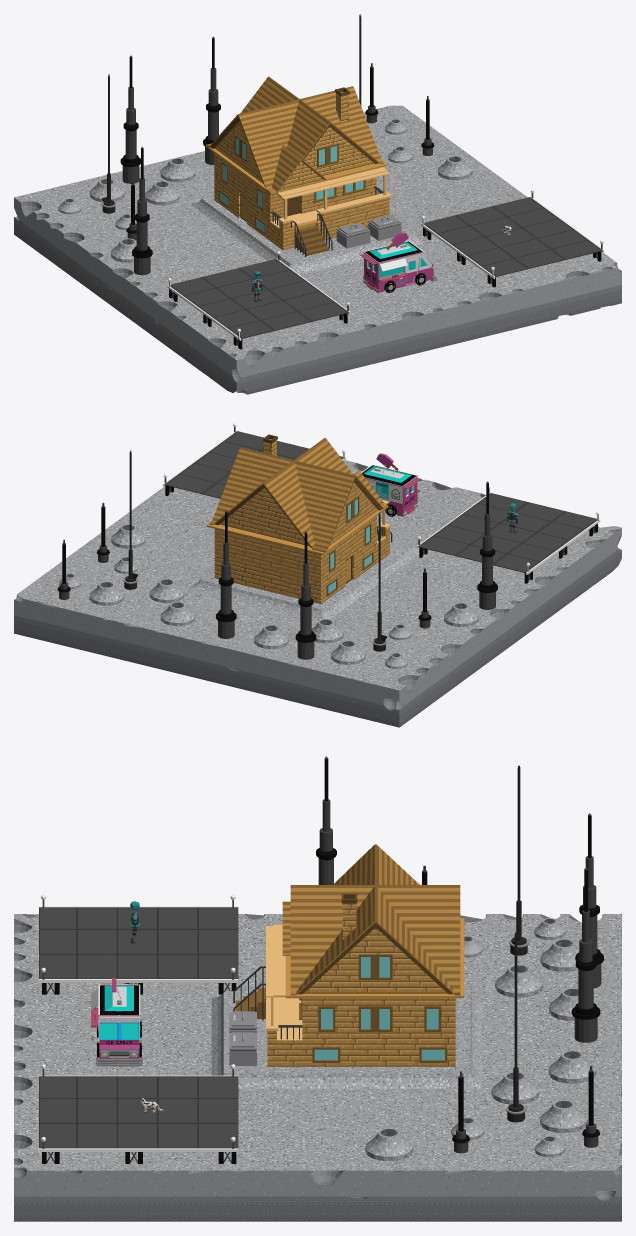
The picture shows the model from 3 angles, top to bottom: view 1: azimuth 30°, elevation 25°; view 2: azimuth 150°, elevation 25°; view 3: azimuth 270°, elevation 25°; orthographic projection. The views are drawn at different scales.
Visible parts, largest first — view 1: Cube.027, Cube.508, Cube.026, Cube.025, Cube.028, VEHICLES_ICE_CREAM_TRUCK, Cylinder.020, Cylinder.021, Cylinder.017, Cube.029, Cube.030, Cylinder.027 (+3 smaller); view 2: Cube.027, Cube.508, Cube.025, Cube.028, Cube.026, VEHICLES_ICE_CREAM_TRUCK, Cylinder.020, Cylinder.021, Cylinder.017, Cylinder.031, Cylinder.028, Cylinder.029 (+7 smaller); view 3: Cube.027, Cube.508, Cube.026, Cube.025, Cube.028, VEHICLES_ICE_CREAM_TRUCK, Cylinder.017, Cylinder.020, Cylinder.021, Cylinder.033, Cylinder.031, Cylinder.029 (+9 smaller).
Part boxes in pixels (x1,y1,x2,y2): Cube.027: (14, 105, 621, 394); Cube.508: (205, 76, 392, 256); Cube.026: (421, 189, 604, 287); Cube.025: (167, 251, 350, 349); Cube.028: (191, 195, 424, 274); VEHICLES_ICE_CREAM_TRUCK: (360, 232, 437, 292); Cylinder.020: (120, 55, 140, 183); Cylinder.021: (132, 146, 152, 275); Cylinder.017: (203, 36, 220, 164); Cube.029: (336, 222, 370, 248); Cube.030: (368, 215, 401, 240); Cylinder.027: (160, 158, 195, 182); Cube.027: (14, 460, 621, 727); Cube.508: (206, 434, 392, 603); Cube.025: (417, 485, 600, 583); Cube.028: (190, 538, 419, 620); Cube.026: (163, 423, 346, 498); VEHICLES_ICE_CREAM_TRUCK: (361, 453, 420, 516); Cylinder.020: (295, 531, 316, 659); Cylinder.021: (477, 481, 497, 609); Cylinder.017: (216, 510, 236, 638); Cylinder.031: (89, 581, 124, 605); Cylinder.028: (331, 640, 365, 664); Cylinder.029: (160, 601, 195, 626); Cube.027: (14, 914, 621, 1221); Cube.508: (233, 844, 464, 1066); Cube.026: (39, 1064, 238, 1163); Cube.025: (39, 895, 238, 994); Cube.028: (211, 991, 481, 1088); VEHICLES_ICE_CREAM_TRUCK: (91, 978, 147, 1066); Cylinder.017: (571, 867, 600, 1042); Cylinder.020: (575, 813, 603, 988); Cylinder.021: (316, 756, 336, 884); Cylinder.033: (365, 1128, 413, 1160); Cylinder.031: (540, 1100, 587, 1132); Cylinder.029: (548, 1050, 596, 1083).
Size of the model in its own units: 4000 by 1799 by 4000.
Materials: 49 (5 with a texture image).
